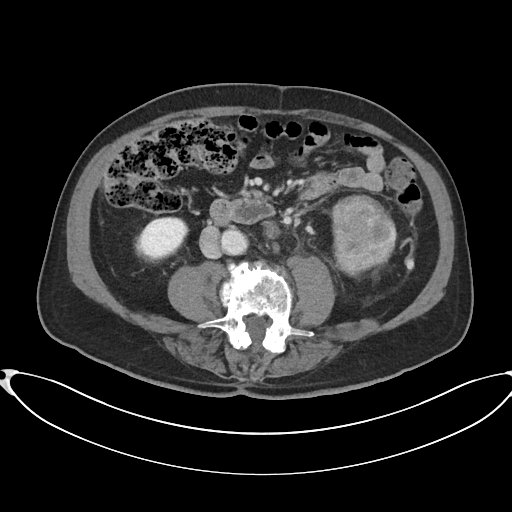Lesion: (325, 191, 401, 277)
